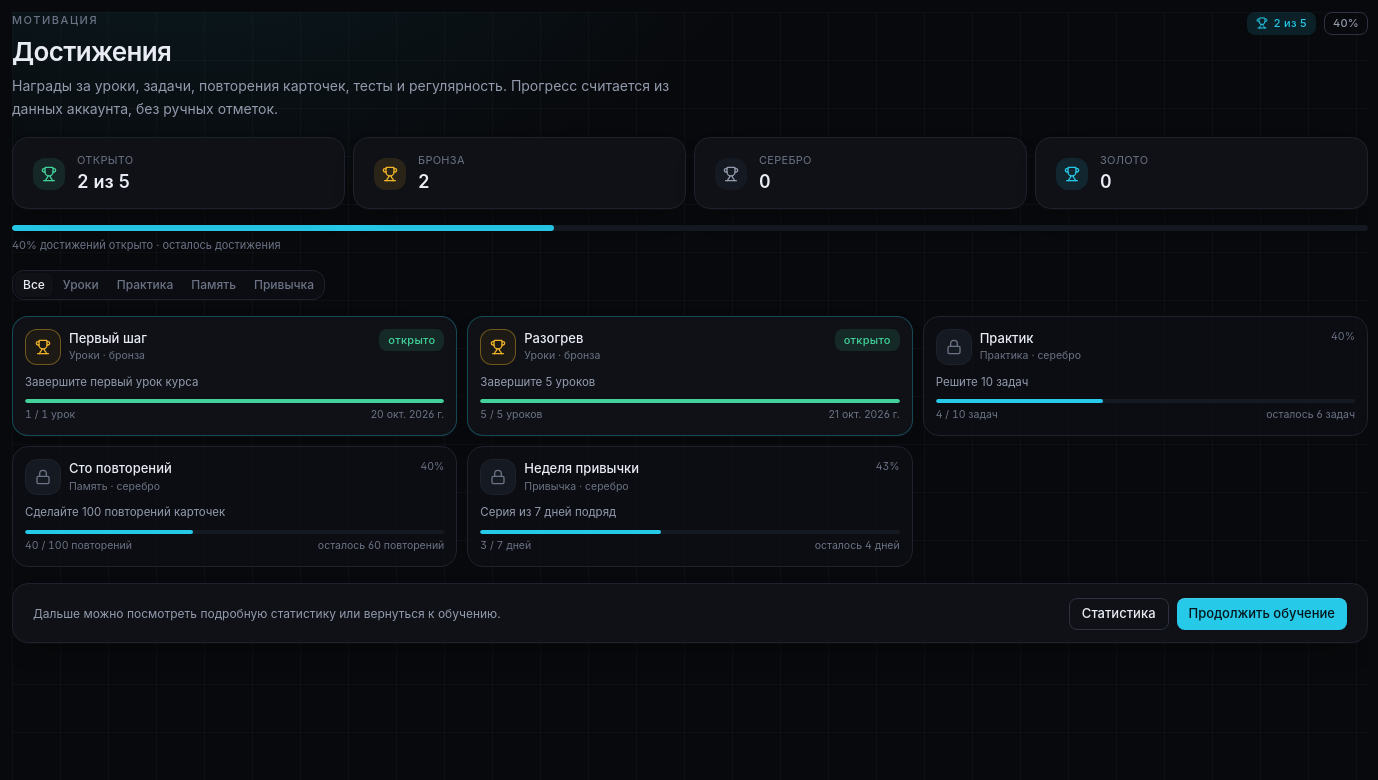
Test: AchievementsPage › показывает пустое состояние категории
Expected: the text "Первый шаг" is shown, [69,330,147,346]
Click the radio button labelled "Память" at [214, 285], box [183,273,244,297]
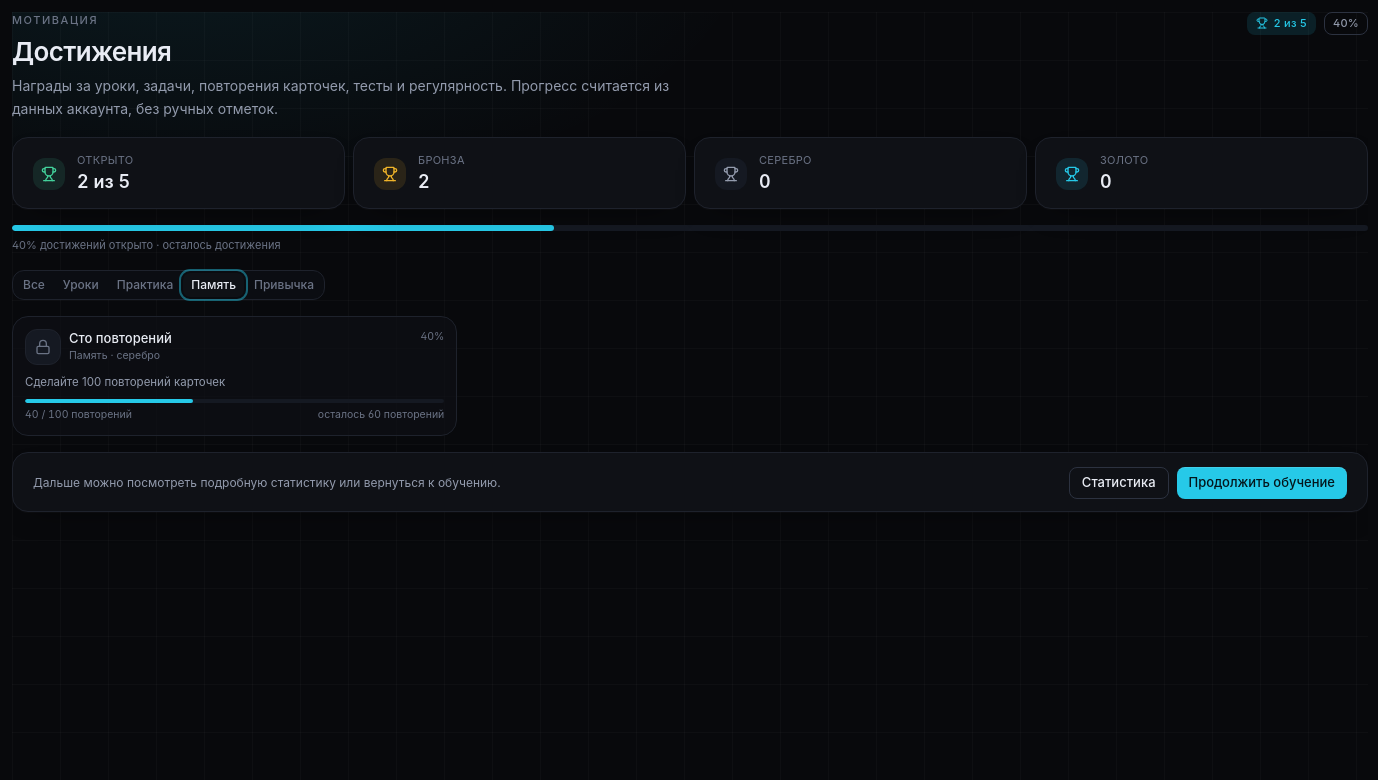
Expected: the text "Сто повторений" is shown, [69,330,172,346]
Click the radio button labelled "Все" at [34, 285], box [15,273,53,297]
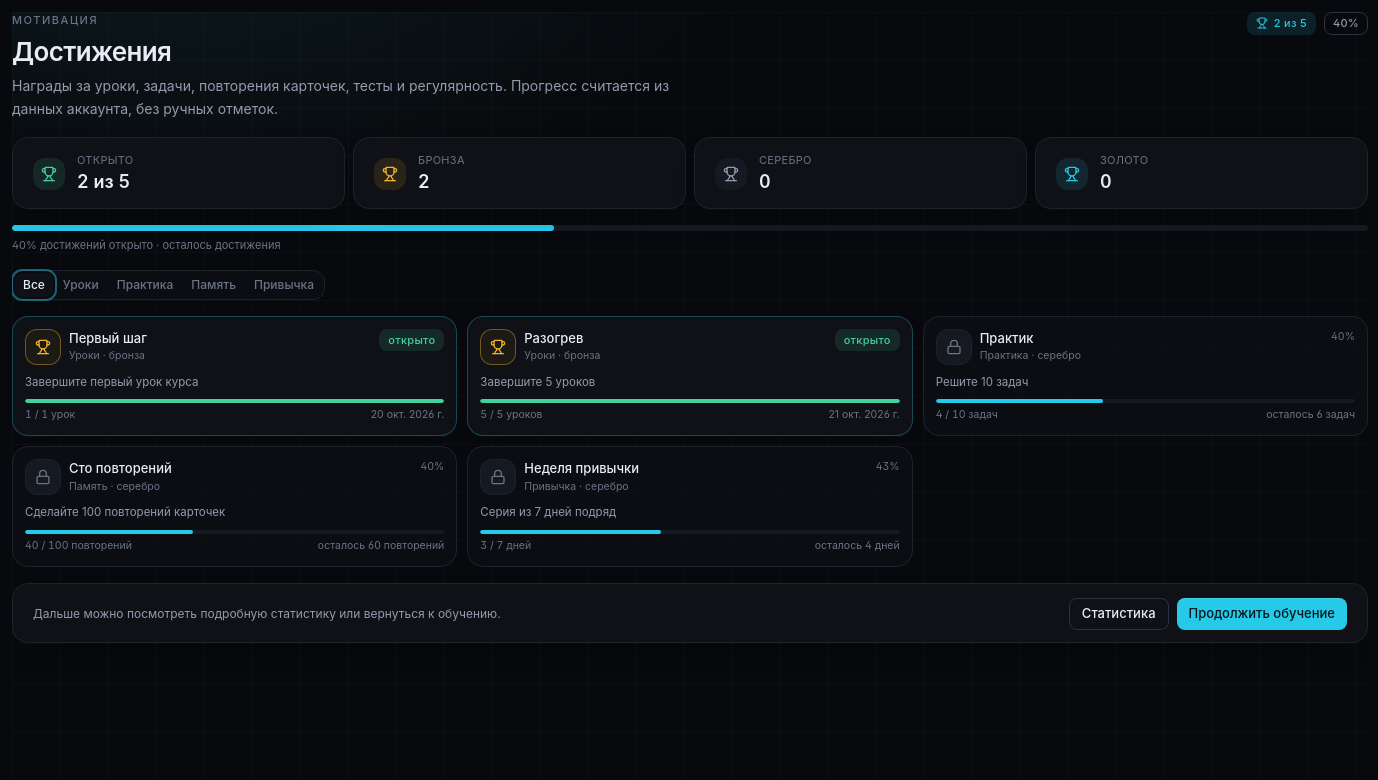
Expected: the text "Первый шаг" is shown, [69,330,147,346]
